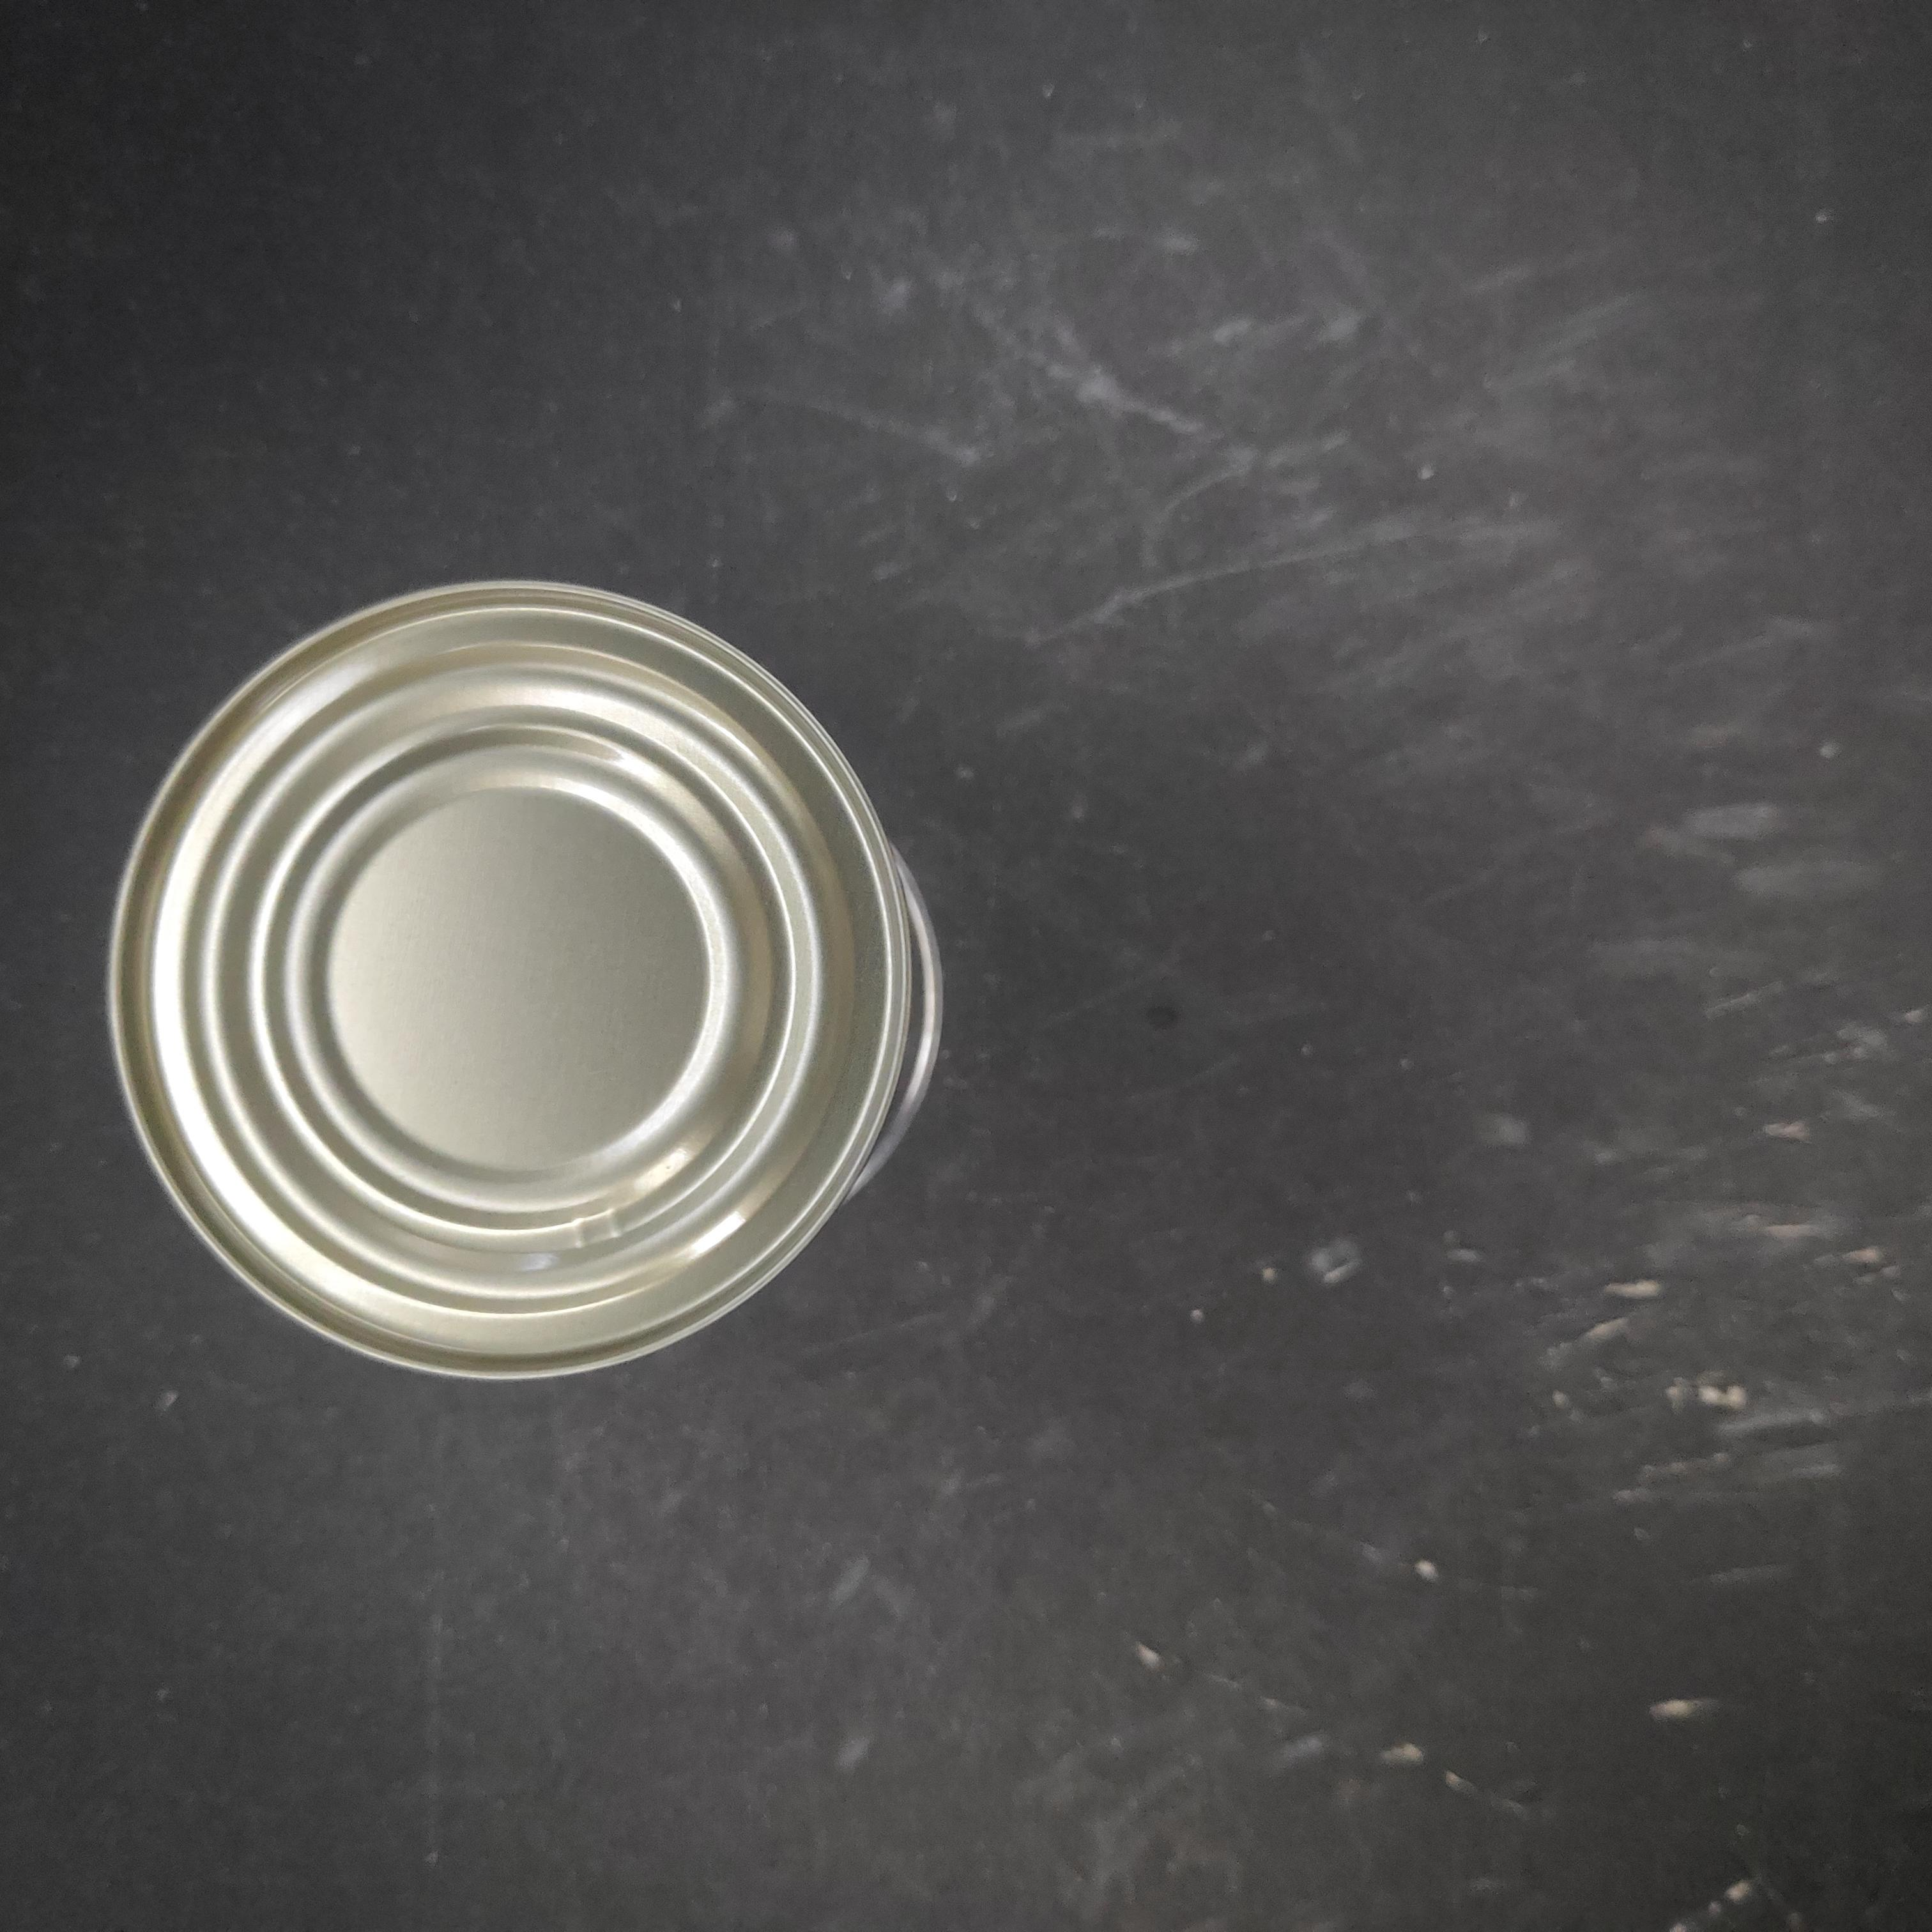No defect: (550, 103, 1355, 950)
